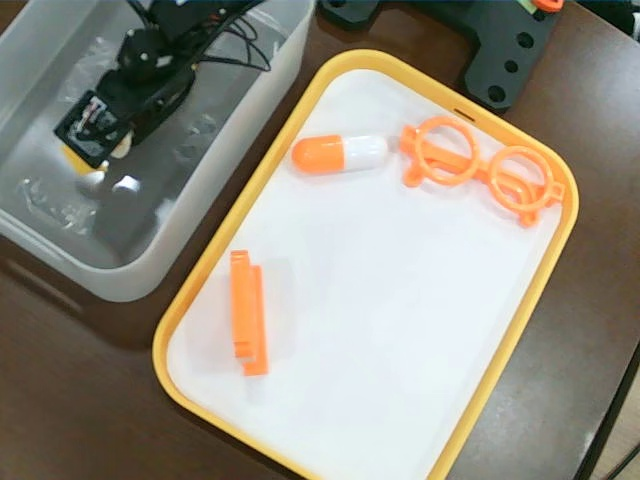pill: (294, 130, 384, 180)
